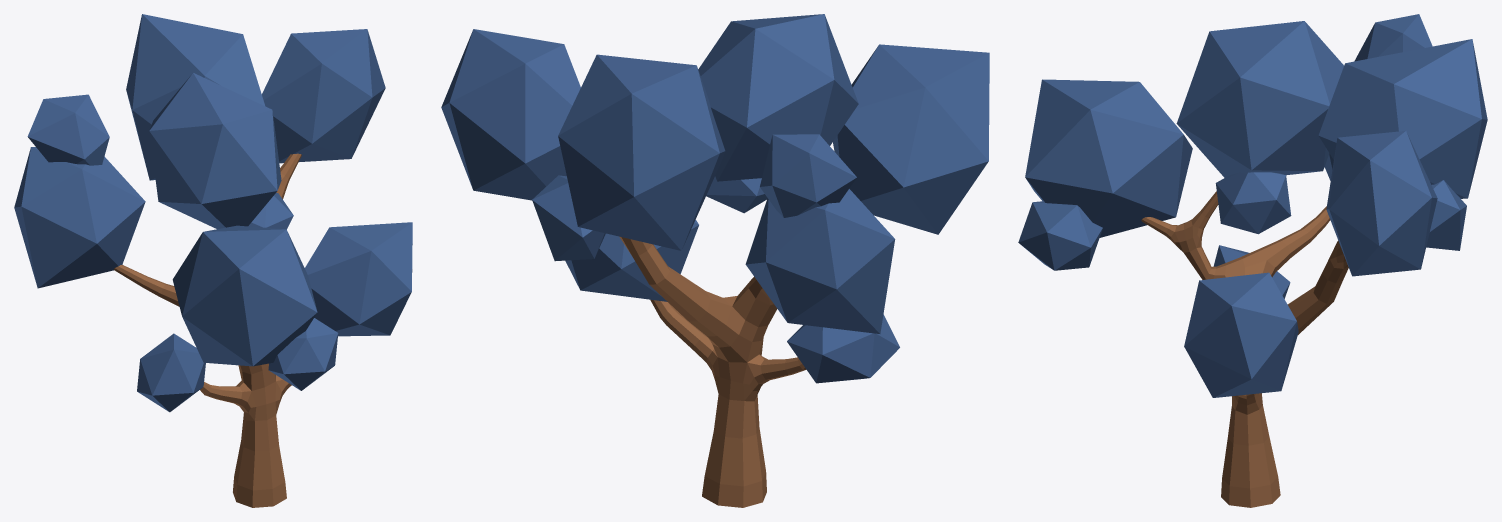
Rendered from tree-winter-complete-2-006.glb.
3 views of the same model, side by side, from view 1: azimuth 30°, elevation 25°; view 2: azimuth 150°, elevation 25°; view 3: azimuth 270°, elevation 25° (orthographic). The views are drawn at different scales.
Visible parts, largest first — view 1: TREE 2.005_197, TREE 2.004_198; view 2: TREE 2.005_197, TREE 2.004_198; view 3: TREE 2.005_197, TREE 2.004_198.
Part boxes in pixels (left/top/right/bottom): TREE 2.005_197: left=14, top=14, right=412, bottom=412; TREE 2.004_198: left=114, top=153, right=301, bottom=507; TREE 2.005_197: left=441, top=14, right=989, bottom=383; TREE 2.004_198: left=619, top=236, right=806, bottom=507; TREE 2.005_197: left=1018, top=14, right=1487, bottom=397; TREE 2.004_198: left=1141, top=191, right=1348, bottom=507.
Bounding box in the file's own units: 1.39 × 1.49 × 1.39.
